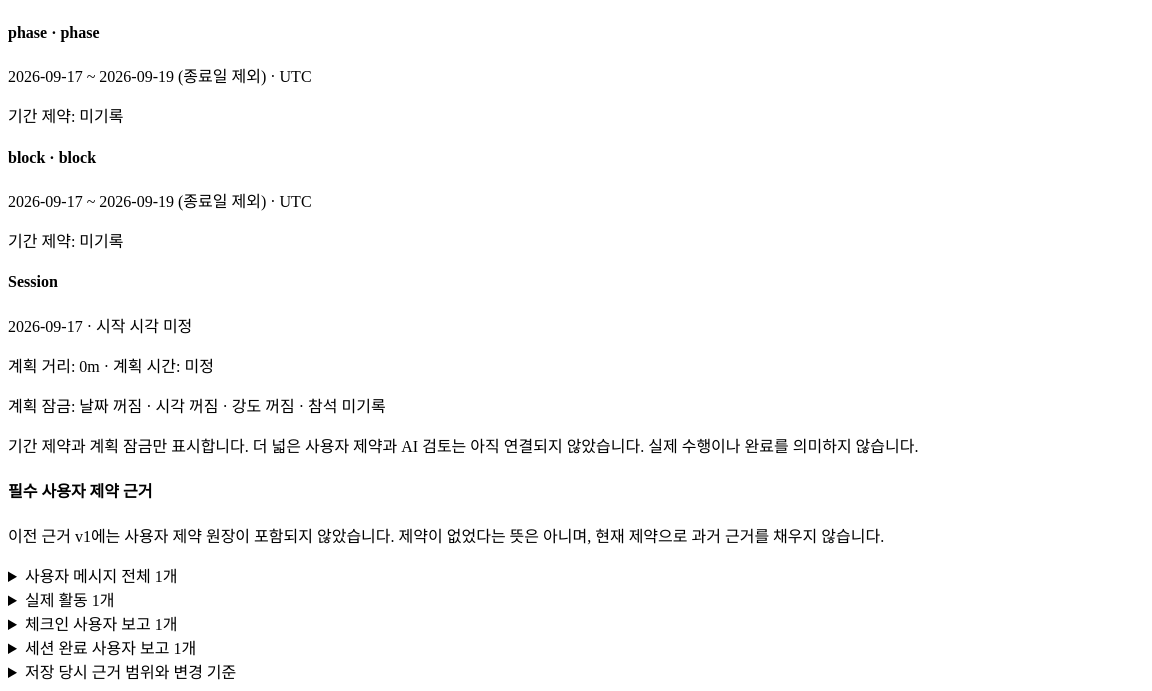
Test: frozen evidence view › preserves check-in own local date and user completion meaning independently of activity windows
(page scrolled)
Click the heading "체크인 사용자 보고 1개".
click(101, 625)  # box [25,616,177,633]
(page scrolled)
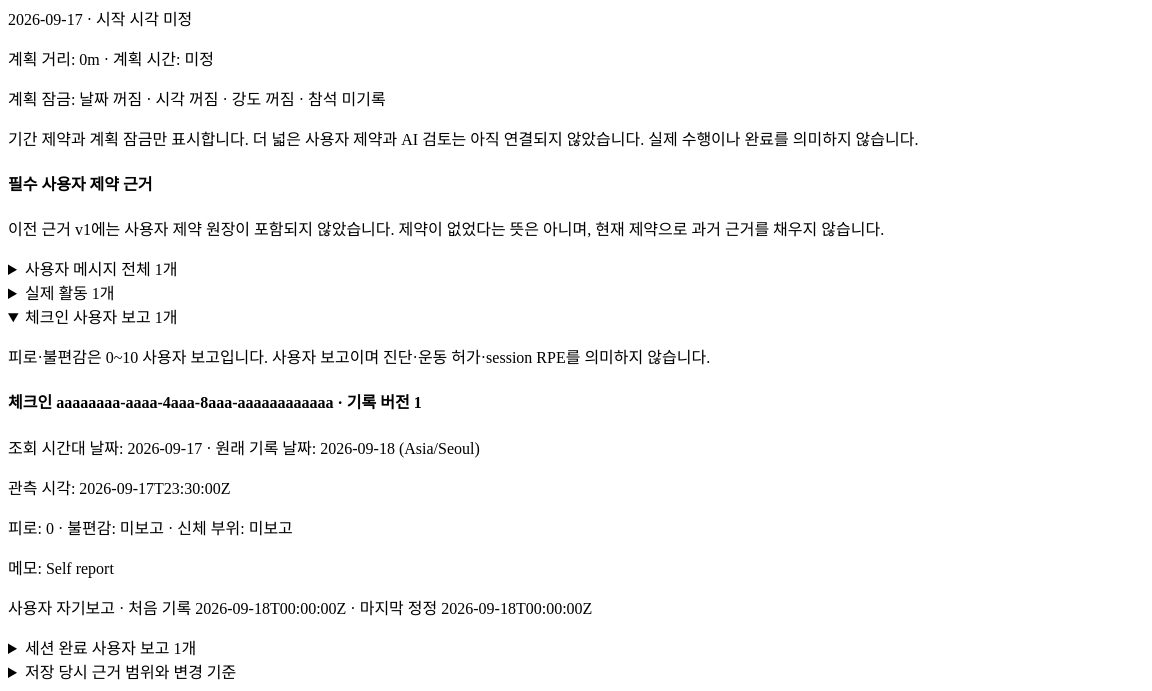
Check: the text "조회 시간대 날짜: 2026-09-17 · 원래 기록 날짜: 2026-09-18 (Asia/Seoul)" is shown, box [8,440,480,457]
Check: the text "피로: 0 · 불편감: 미보고 · 신체 부위: 미보고" is shown, box [8,520,293,537]
Click the heading "세션 완료 사용자 보고 1개".
click(110, 648)  # box [25,640,196,657]
(page scrolled)
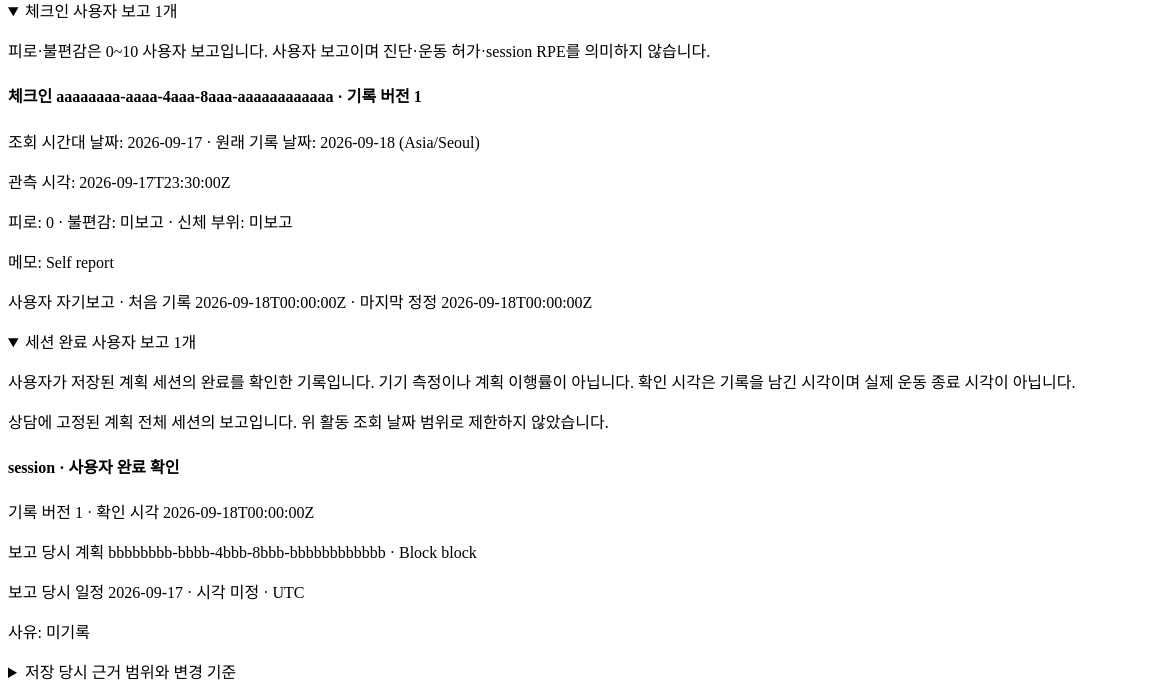
Check: the text "기기 측정이나 계획 이행률이 아닙니다" is shown, box [8,374,634,391]
Check: the text "확인 시각은 기록을 남긴 시각" is shown, box [638,374,1076,391]
